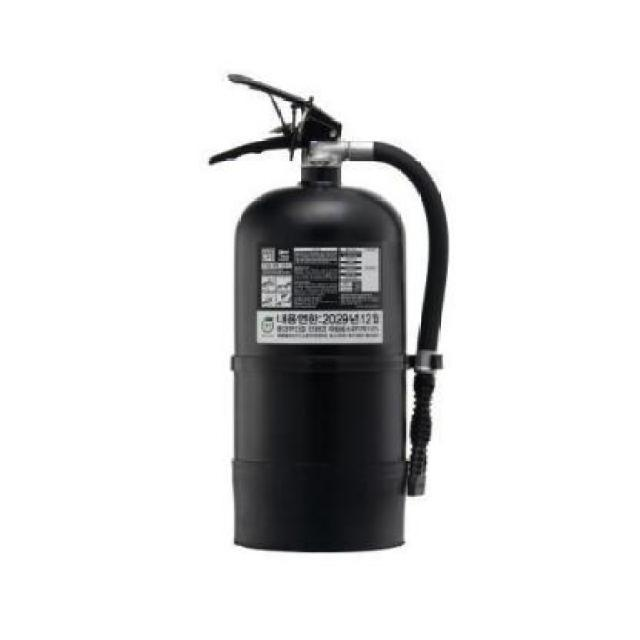fire extinguisher: (208, 72, 449, 555)
